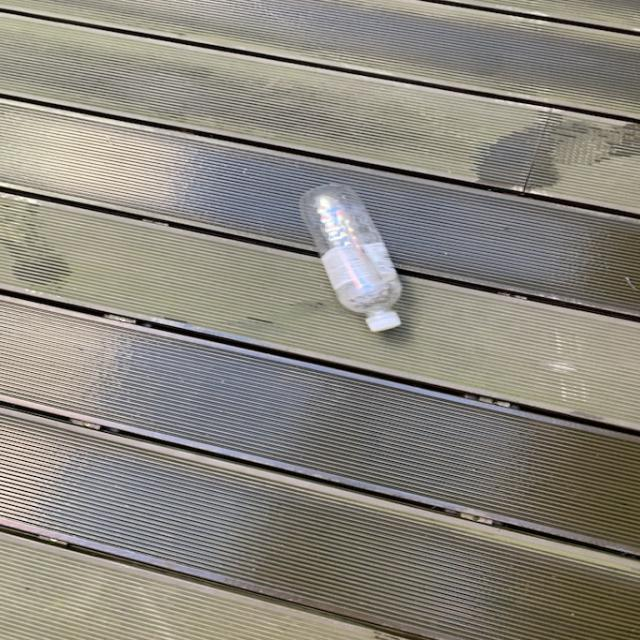Plastic: (284, 188, 421, 334)
